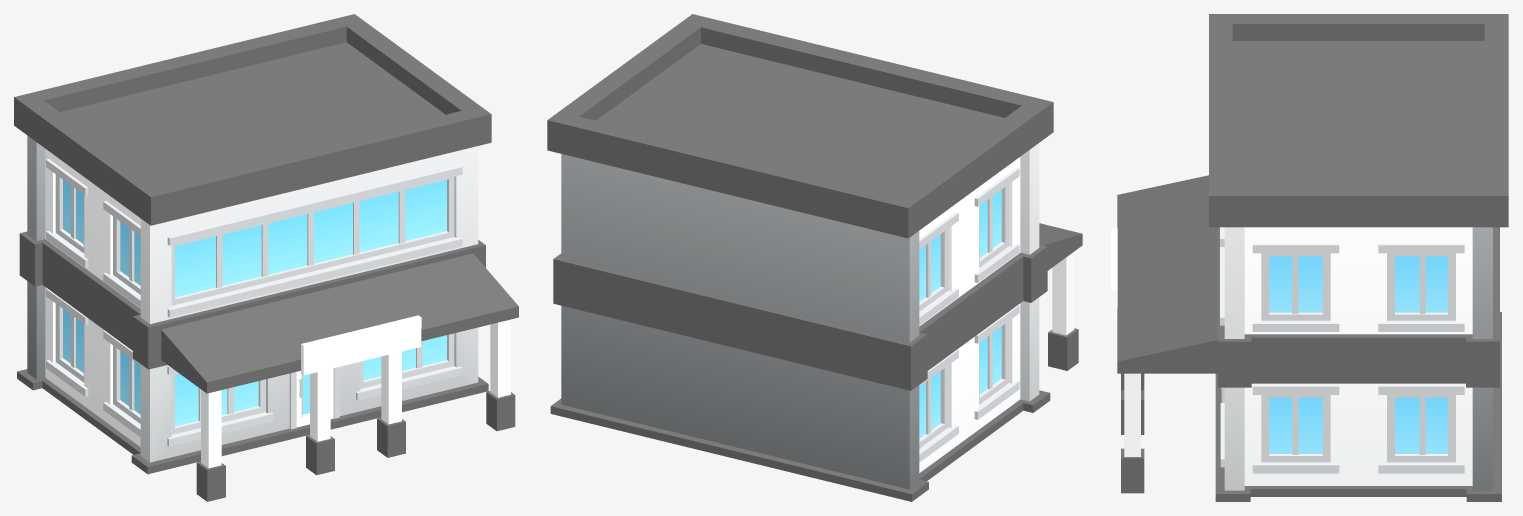
The model's file is Building_Living_40.glb.
3 views of the same model, side by side, from view 1: azimuth 30°, elevation 25°; view 2: azimuth 150°, elevation 25°; view 3: azimuth 270°, elevation 25° (orthographic). The views are drawn at different scales.
Visible parts, largest first — view 1: Building_Living_40; view 2: Building_Living_40; view 3: Building_Living_40.
Boxes of the visible parts, bbox=[...] form: Building_Living_40: bbox=[14, 14, 518, 501]; Building_Living_40: bbox=[547, 14, 1082, 501]; Building_Living_40: bbox=[1111, 14, 1508, 501].
Size of the model in its own units: 9.86 by 7.72 by 9.09.
1 material, 1 textured.
